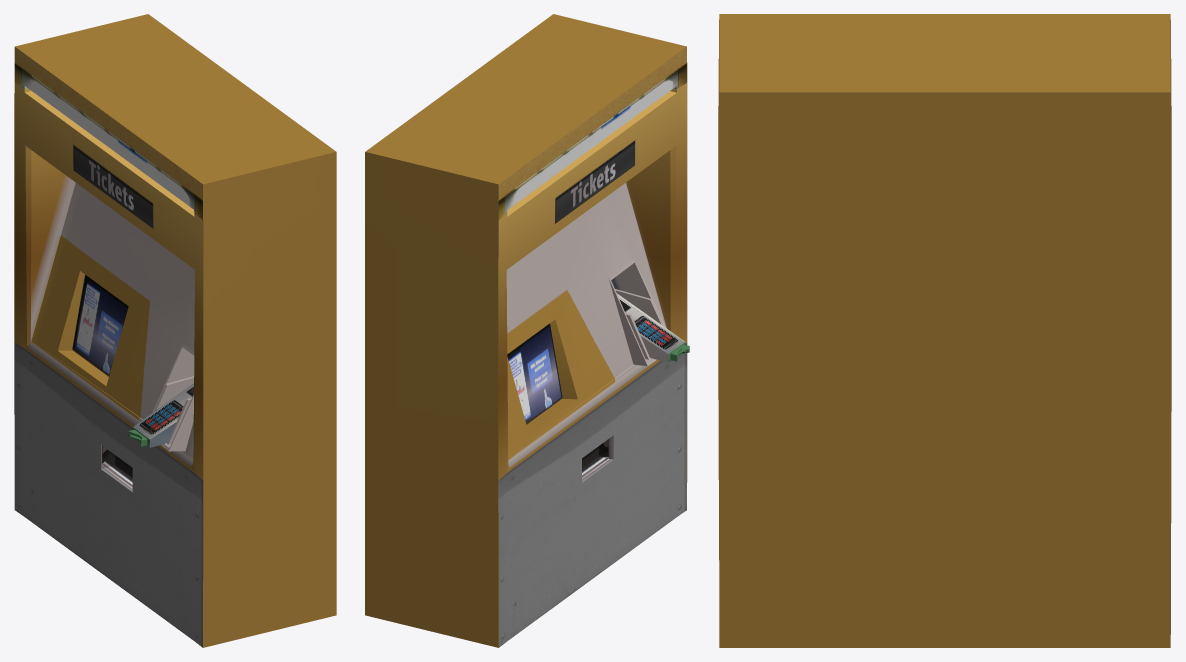
Rendered from TicketMachine01d.FBX.
3 views of the same model, side by side, from view 1: azimuth 30°, elevation 25°; view 2: azimuth 150°, elevation 25°; view 3: azimuth 270°, elevation 25° (orthographic). The views are drawn at different scales.
Visible parts, largest first — view 1: TicketMachine01d; view 2: TicketMachine01d; view 3: TicketMachine01d.
Part boxes in pixels (bbox=[...]): TicketMachine01d: bbox=[14, 14, 336, 647]; TicketMachine01d: bbox=[365, 14, 689, 647]; TicketMachine01d: bbox=[718, 14, 1171, 647].
Bounding box in the file's own units: 822 × 2196 × 1623.
